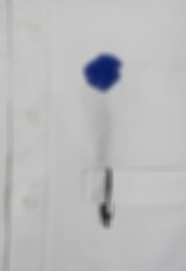ink: (84, 55, 122, 91)
